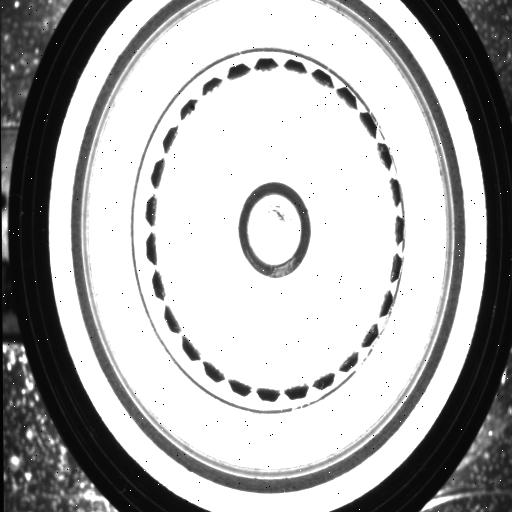gear: (142, 53, 408, 407)
